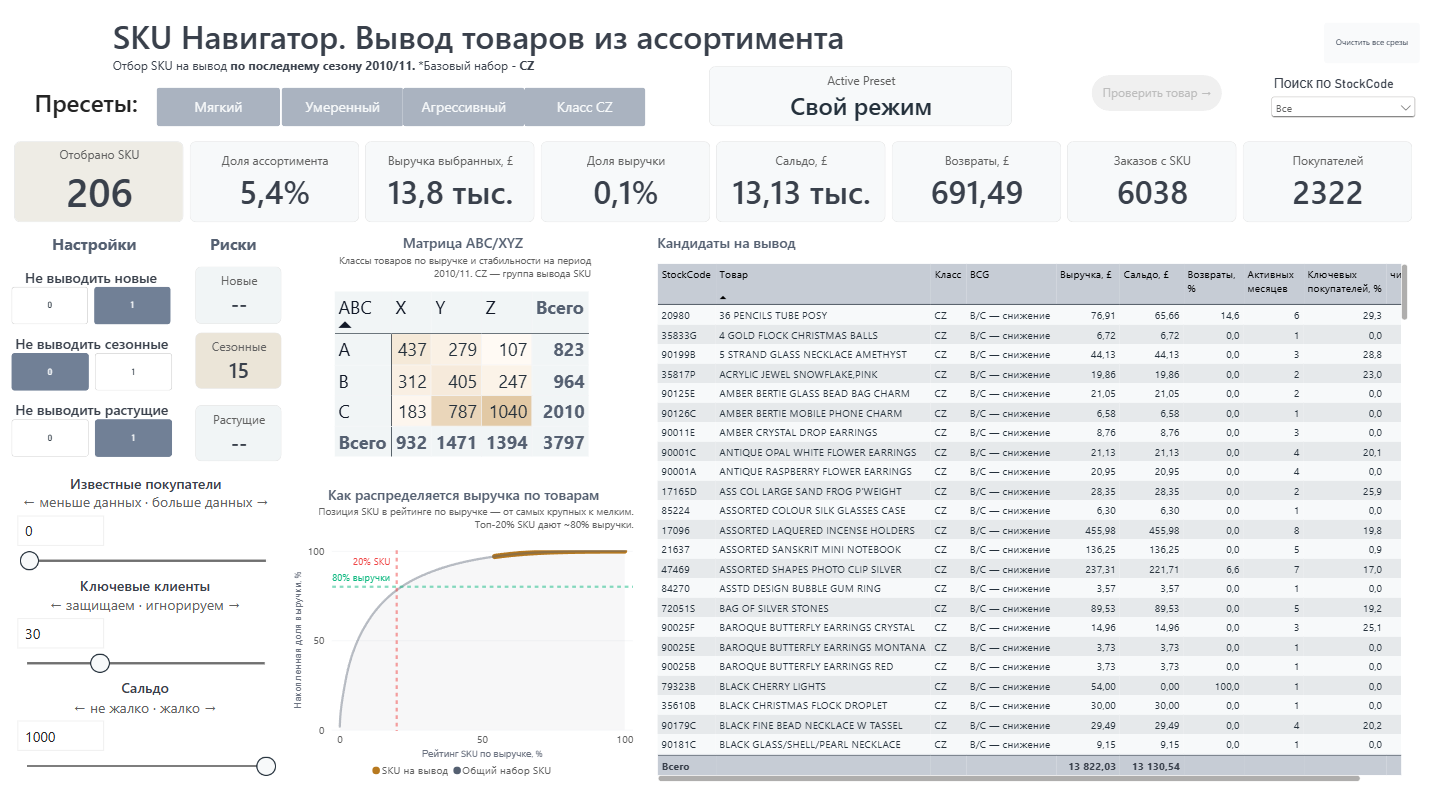

What the dashboard file says about the page in this screenshot:
{"tool":"powerbi","page":{"name":"Отбор на вывод","canvas":[1920,1080],"ordinal":1},"visuals":[{"type":"lineChart","title":"Как распределяется выручка по товарам","fields":{"Category":["MartSkuPeriod.SKU Cumulative %"],"Y":["_Measures.Pareto Selected","_Measures.Pareto All"]},"box":[375.9,632.5,485.6,425.9],"z":0},{"type":"pivotTable","title":"Матрица ABC/XYZ","fields":{"Columns":["MartSkuPeriod.XYZ"],"Rows":["MartSkuPeriod.ABC"],"Values":["Count(MartSkuPeriod.StockCode)"]},"box":[432.5,296.2,373.9,335.8],"z":1000},{"type":"textbox","box":[152.1,0,1018.9,110.8],"z":2000},{"type":"actionButton","box":[1766,30,127.8,54.4],"z":3000},{"type":"slicer","fields":{"Values":["MartSkuPeriod.StockCode"]},"box":[1692.3,99.9,202,64],"z":4000},{"type":"actionButton","box":[1456,100,174,48],"z":5000},{"type":"actionButton","box":[210,116,165.1,52],"z":6000,"group":"g1"},{"type":"advancedSlicerVisual","title":"Не выводить новые","fields":{"Values":["ExcludeNew.ExcludeNew"]},"box":[16.5,356,212,76],"z":6000},{"type":"actionButton","box":[376,116,162.8,52],"z":7000,"group":"g1"},{"type":"advancedSlicerVisual","title":"Не выводить сезонные","fields":{"Values":["ExcludeSeasonal.ExcludeSeasonal"]},"box":[16.5,444.3,214,76],"z":7000},{"type":"actionButton","box":[538,116,162.8,52],"z":8000,"group":"g1"},{"type":"advancedSlicerVisual","title":"Не выводить растущие","fields":{"Values":["ExcludeGrowing.ExcludeGrowing"]},"box":[16.5,534,214,76],"z":8000},{"type":"slicer","title":"Известные покупатели","fields":{"Values":["CoverageMin.CoverageMin"]},"box":[16.5,632,358,136],"z":9000},{"type":"slicer","title":"Ключевые клиенты","fields":{"Values":["KeyShareMax.KeyShareMax"]},"box":[16.5,768,356,136],"z":10000},{"type":"slicer","title":"Сальдо","fields":{"Values":["BalanceMax.BalanceMax"]},"box":[16.5,904,356,136],"z":11000},{"type":"cardVisual","fields":{"Data":["_Measures.Selected New"]},"box":[261.1,354.9,115.6,77.6],"z":12000},{"type":"cardVisual","fields":{"Data":["_Measures.Selected Seasonal"]},"box":[261.1,444.1,115.6,75.9],"z":13000},{"type":"cardVisual","fields":{"Data":["_Measures.Selected Growing"]},"box":[261.1,539.8,115.6,75.9],"z":14000},{"type":"textbox","box":[20,310,214,46],"z":15000},{"type":"textbox","box":[247.7,310.7,128.2,45.6],"z":16000},{"type":"tableEx","title":"Кандидаты на вывод","fields":{"Values":["MartSkuPeriod.StockCode","MartSkuPeriod.ProductName","MartSkuPeriod.ABC_XYZ","MartSkuPeriod.BCG_adapted","Sum(MartSkuPeriod.revenue)","Sum(MartSkuPeriod.sales_balance)","MartSkuPeriod.negative_to_sales_pct","MartSkuPeriod.active_months","MartSkuPeriod.key_customer_revenue_share_pct","_Measures.Selected SKU Count"]},"box":[861.8,296.2,1032.9,762],"z":17000},{"type":"textbox","box":[20.4,115.3,192.2,65.6],"z":18000},{"type":"cardVisual","fields":{"Data":["_Measures.Active Preset"]},"box":[946,88,404,80],"z":19000},{"type":"cardVisual","fields":{"Data":["_Measures.Selected SKU Count","_Measures.Selected SKU %","_Measures.Selected Revenue","_Measures.Selected Revenue %","_Measures.Selected Balance","_Measures.Selected Returns","_Measures.Selected Orders","_Measures.Selected Customers"]},"box":[20,188,1868,108],"z":20000},{"type":"group","id":"g1","title":"Группа 1","box":[210,116,652,52],"z":21000},{"type":"actionButton","box":[700,116,162,52],"z":22000,"group":"g1"}]}

Visuals, with their boxes in screenshot pixels (x1, y1, x2, y2), scaled from the page's 1920x1080 canvas onto the 1432x807 screenshot:
"Как распределяется выручка по товарам" lineChart: crop(280, 473, 643, 791)
"Матрица ABC/XYZ" pivotTable: crop(323, 221, 601, 472)
textbox: crop(113, 0, 873, 83)
actionButton: crop(1317, 22, 1412, 63)
slicer - MartSkuPeriod.StockCode: crop(1262, 75, 1413, 122)
actionButton: crop(1086, 75, 1216, 111)
actionButton: crop(157, 87, 280, 126)
"Не выводить новые" advancedSlicerVisual: crop(12, 266, 170, 323)
actionButton: crop(280, 87, 402, 126)
"Не выводить сезонные" advancedSlicerVisual: crop(12, 332, 172, 389)
actionButton: crop(401, 87, 523, 126)
"Не выводить растущие" advancedSlicerVisual: crop(12, 399, 172, 456)
"Известные покупатели" slicer: crop(12, 472, 279, 574)
"Ключевые клиенты" slicer: crop(12, 574, 278, 675)
"Сальдо" slicer: crop(12, 675, 278, 777)
cardVisual - _Measures.Selected New: crop(195, 265, 281, 323)
cardVisual - _Measures.Selected Seasonal: crop(195, 332, 281, 389)
cardVisual - _Measures.Selected Growing: crop(195, 403, 281, 460)
textbox: crop(15, 232, 175, 266)
textbox: crop(185, 232, 280, 266)
"Кандидаты на вывод" tableEx: crop(643, 221, 1413, 791)
textbox: crop(15, 86, 159, 135)
cardVisual - _Measures.Active Preset: crop(706, 66, 1007, 126)
cardVisual - _Measures.Selected SKU Count x _Measures.Selected SKU %: crop(15, 140, 1408, 221)
"Группа 1" group: crop(157, 87, 643, 126)
actionButton: crop(522, 87, 643, 126)
